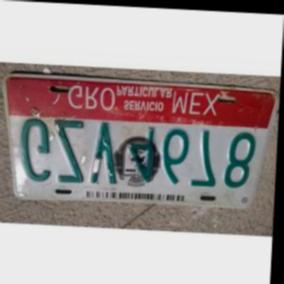License_Plate: (1, 72, 279, 219)
